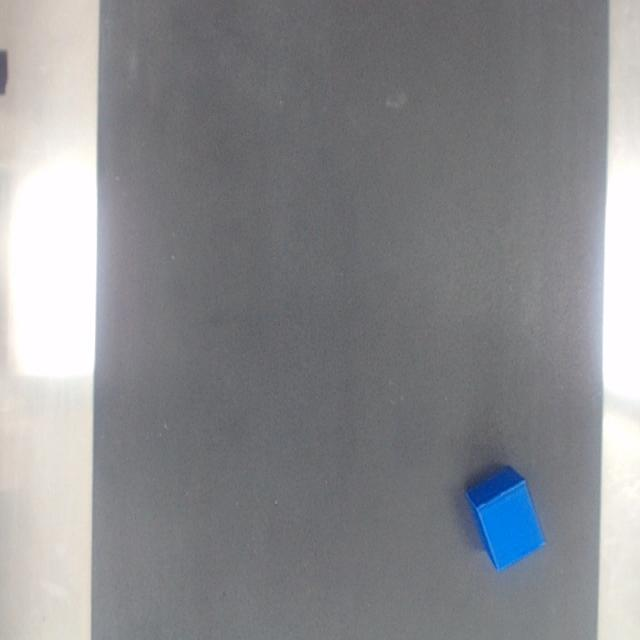Azul: (466, 467, 544, 571)
